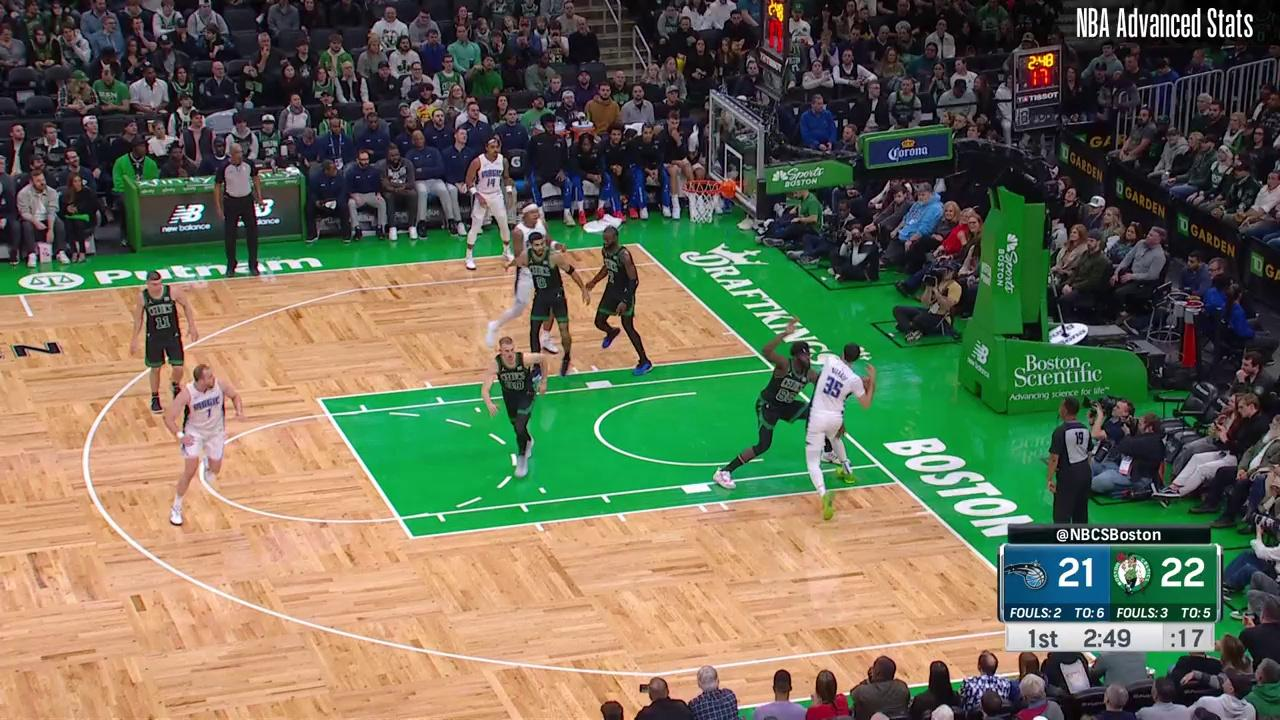3_sx: (649, 255, 666, 271)
b_sx: (628, 234, 647, 252)
free_adx: (401, 527, 422, 545)
free_asx: (309, 391, 327, 408)
free_bdx: (890, 475, 906, 491)
free_bsx: (747, 347, 767, 365)
mid_sx: (24, 309, 39, 322)
referee: (1041, 397, 1104, 530), (214, 141, 266, 274)
team: (721, 325, 836, 475), (515, 233, 586, 381), (586, 227, 653, 375), (483, 336, 548, 479), (129, 272, 192, 405)
team1: (167, 364, 242, 532), (807, 340, 874, 519), (491, 201, 563, 353), (468, 136, 513, 270)
timer: (1080, 622, 1137, 650)
